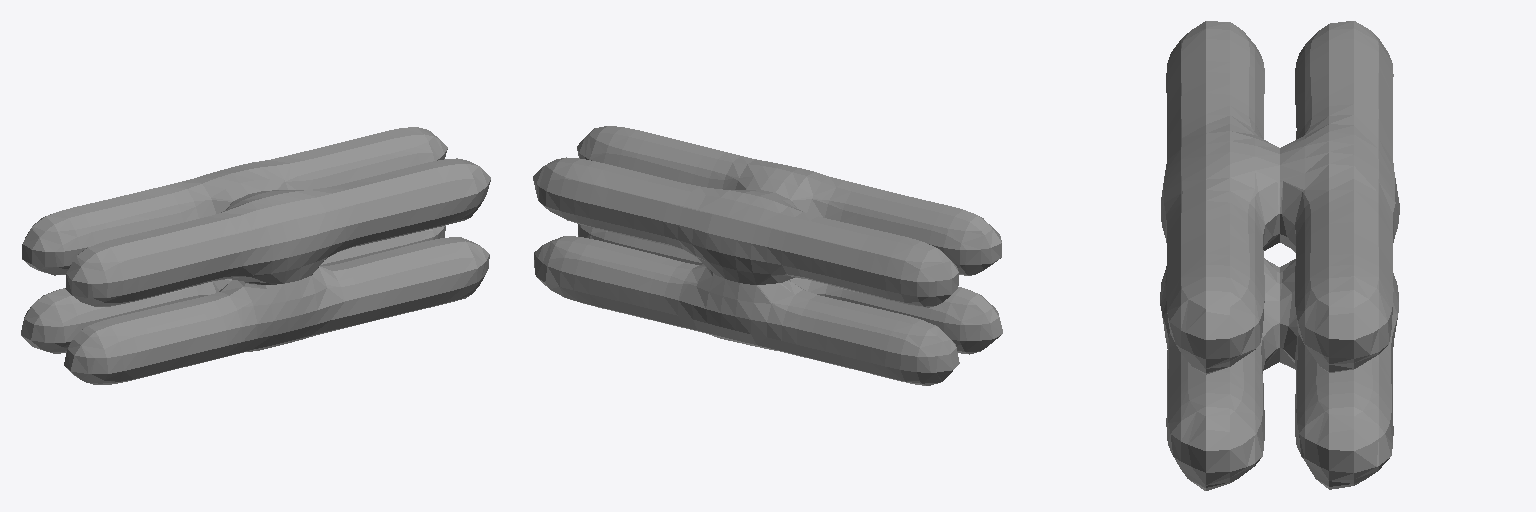
The robot description file, URDF, robot "cube.urdf":
<?xml version="0.0" ?> 
<robot name="cube.urdf"> 
<link name="legobrick"> 
<contact> 
<lateral_friction value="5.0"/> 
<rolling_friction value="0.0"/> 
<contact_cfm value="0.0"/> 
<contact_erp value="1.0"/> 
</contact> 
<inertial> 
<origin rpy="0 0 0" xyz="0.0 0.0 0.0"/> 
<mass value=".01"/> 
<inertia ixx="1" ixy="0" ixz="0" iyy="1" iyz="0" izz="1"/> 
</inertial> 
<visual> 
<origin rpy="1.570796 0 0" xyz="-0.05360215879553743 0.0535771839359345 -0.05355231403504925"/> 
<geometry> 
<mesh filename="W17_2.obj" scale="0.001 0.001 0.001"/> 
</geometry> 
<material name="yellow"> 
<color rgba="0.6 0.6 0.6 1"/> 
</material> 
</visual> 
<collision> 
<origin rpy="1.570796 0 0" xyz="-0.05360215879553743 0.0535771839359345 -0.05355231403504925"/> 
<geometry> 
<mesh filename="W17_2.obj" scale="0.001 0.001 0.001"/> 
</geometry> 
</collision> 
</link> 
</robot>

--- Facts derived from the render (not from the file) ---
3 views of the same robot in one strip: view 1: azimuth 30°, elevation 25°; view 2: azimuth 150°, elevation 25°; view 3: azimuth 270°, elevation 25° (orthographic).
Model cube.urdf with 1 links and 0 joints (none), rooted at legobrick, posed every joint at zero.
Visible links, largest first — view 1: legobrick; view 2: legobrick; view 3: legobrick.
Boxes of the visible links, x1,y1,x2,y2 form: legobrick: [21, 127, 490, 384]; legobrick: [533, 126, 1002, 385]; legobrick: [1160, 21, 1399, 490].
Size in the robot's own frame: 0.1004 by 0.0332 by 0.0332 metres.
1 mesh visuals loaded from 1 distinct referenced files (1 OBJ).
